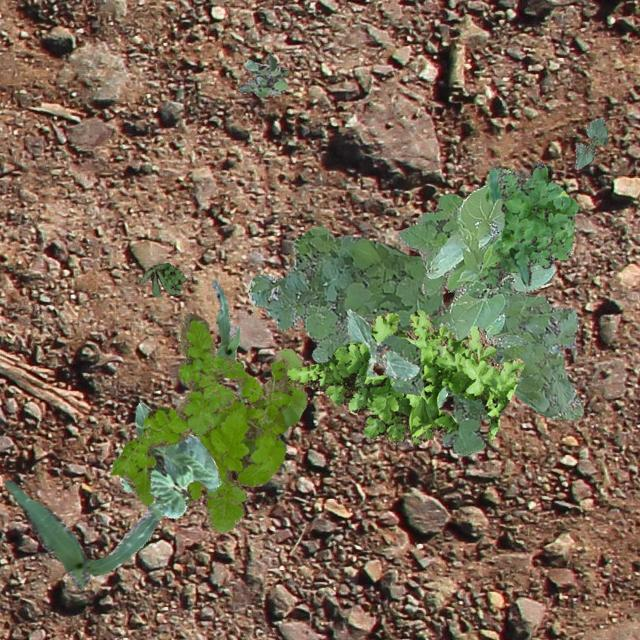crop: (426, 168, 554, 338), (3, 478, 162, 588), (118, 402, 220, 518), (346, 308, 418, 380), (210, 280, 244, 400), (574, 116, 608, 168), (436, 384, 446, 406)
weed: (246, 225, 487, 454), (396, 192, 582, 420), (286, 308, 524, 446), (110, 312, 290, 493), (136, 348, 306, 532), (476, 162, 576, 288), (236, 54, 288, 96), (480, 312, 526, 348), (138, 262, 184, 296)
